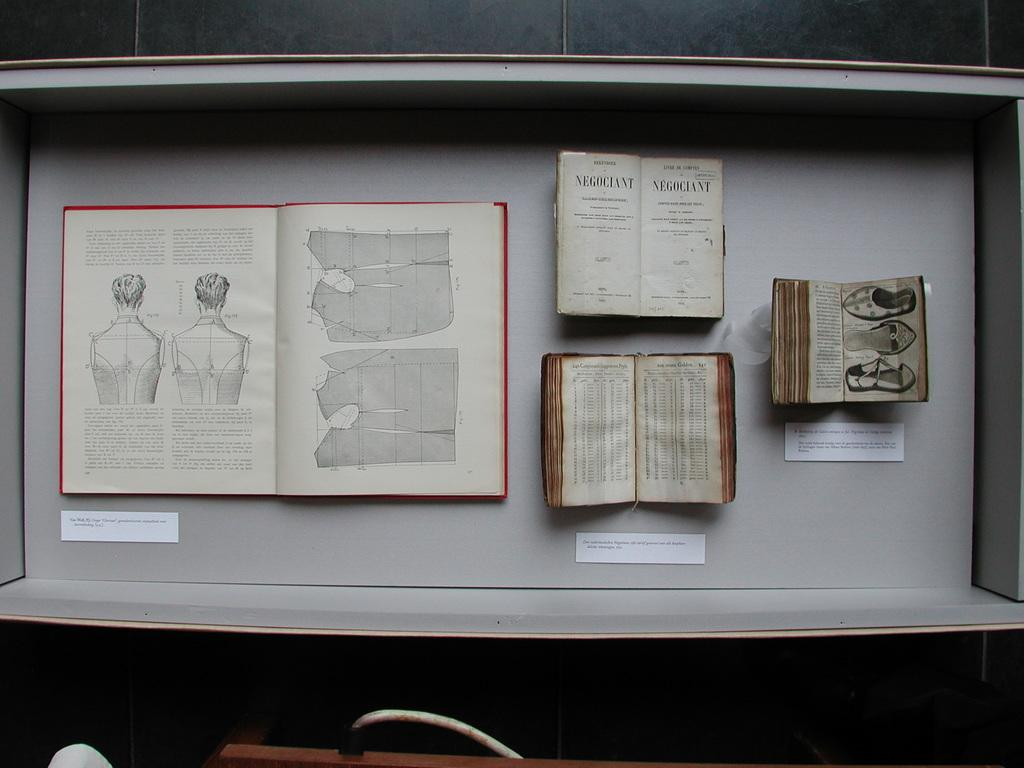book: (44, 209, 512, 504), (760, 254, 931, 433), (547, 357, 739, 512), (561, 148, 726, 324)
